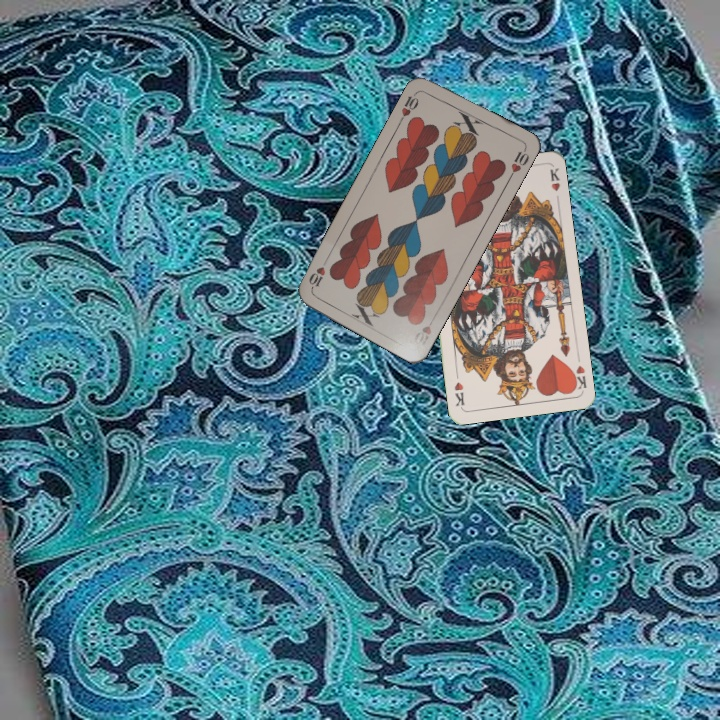H10: (395, 87, 421, 124), (410, 322, 434, 347)
HK: (568, 361, 589, 393)
